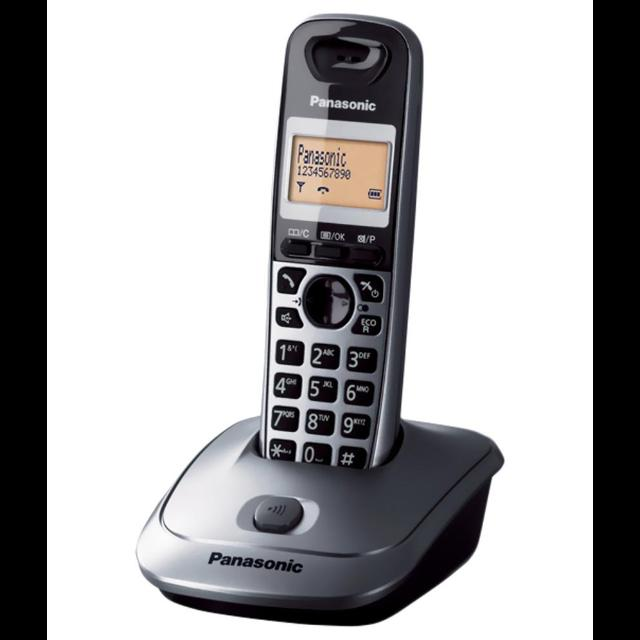Telephone-Set: (110, 8, 516, 640)
